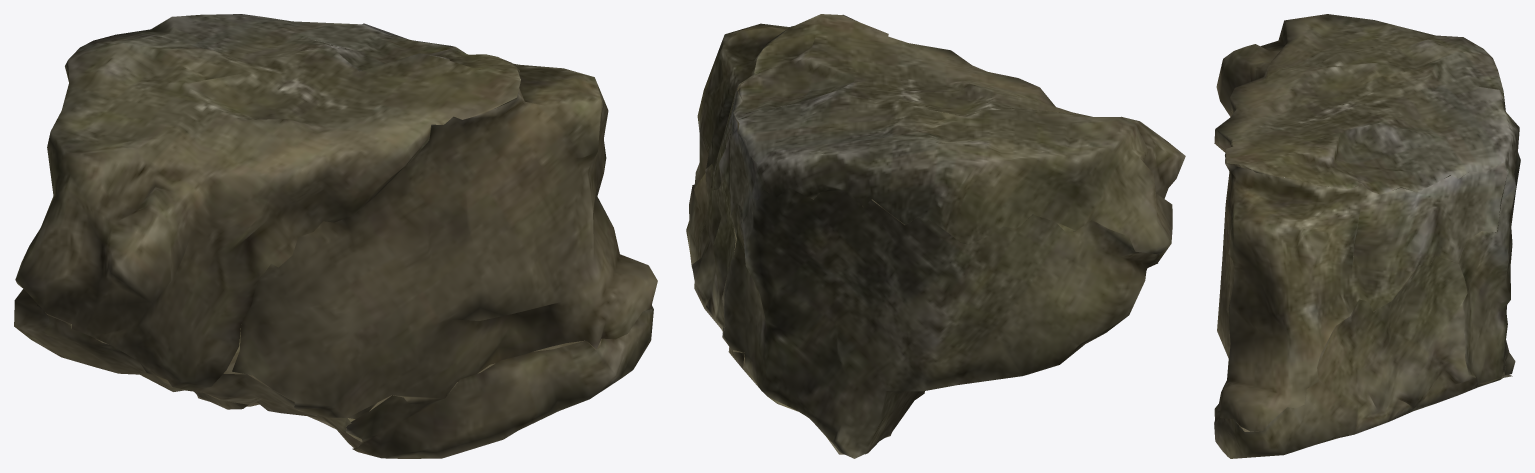
Rendered from rock_moss_set_02_4.glb.
The picture shows the model from 3 angles, left to right: view 1: azimuth 30°, elevation 25°; view 2: azimuth 150°, elevation 25°; view 3: azimuth 270°, elevation 25°; orthographic projection. The views are drawn at different scales.
Visible parts, largest first — view 1: rock_moss_set_02_rock13; view 2: rock_moss_set_02_rock13; view 3: rock_moss_set_02_rock13.
Boxes of the visible parts, x1,y1,x2,y2 form: rock_moss_set_02_rock13: (14, 14, 657, 458); rock_moss_set_02_rock13: (686, 14, 1185, 458); rock_moss_set_02_rock13: (1214, 14, 1520, 458).
Bounding box in the file's own units: 2.1 × 1.26 × 1.14.
Materials: 1 (1 with a texture image).
